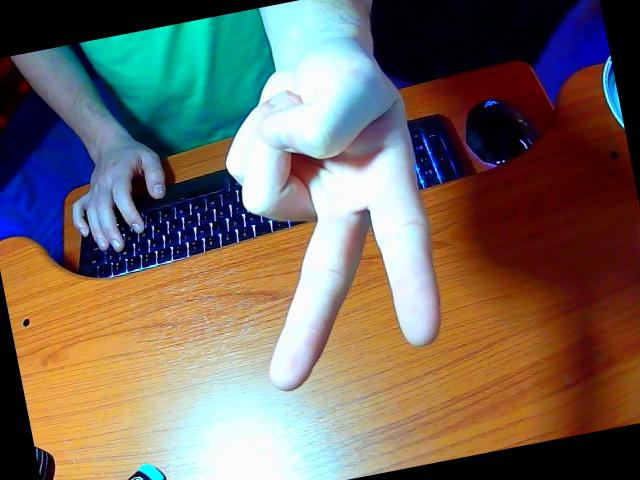scissors: (15, 0, 439, 389)
